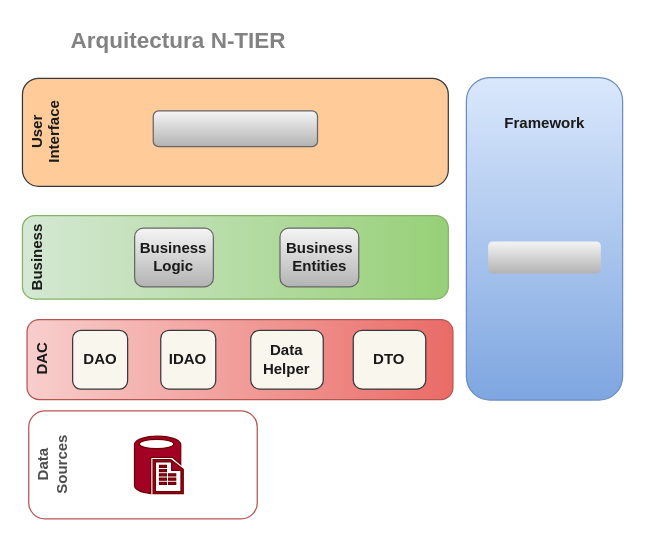
Image size: 645x541. Some labels were removed from this diagram. The shapes that lost their labels are listed below. From the top down, each one's centre as x and y in pixels, then its label:
At [235,128]: "UI Component".
At [544,257]: "Exception".
At [158,464]: "SQLITE".
